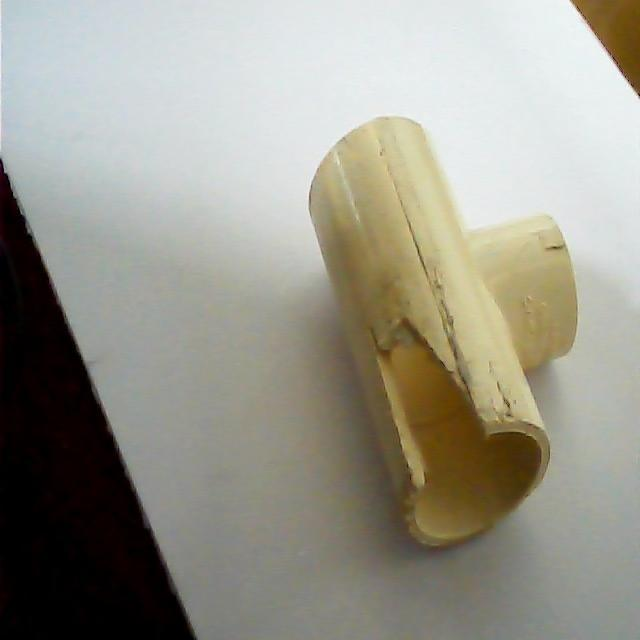Defective: (376, 318, 490, 480)
T Joint: (306, 116, 579, 552)
